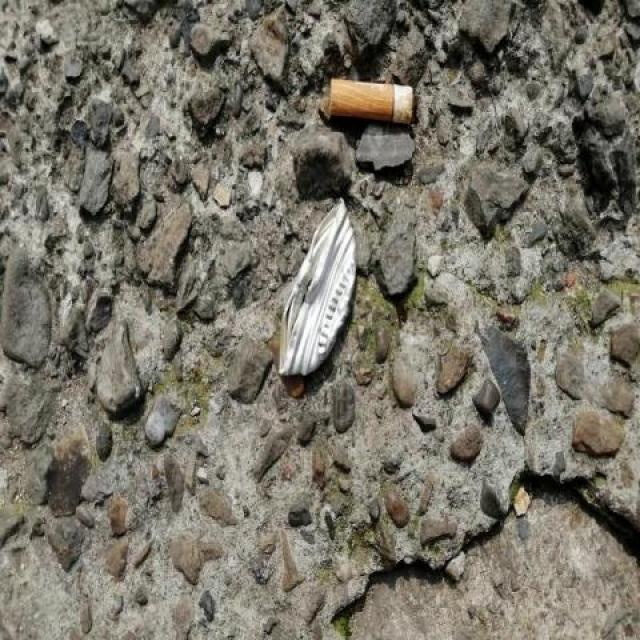non-organic waste: (322, 72, 423, 128)
